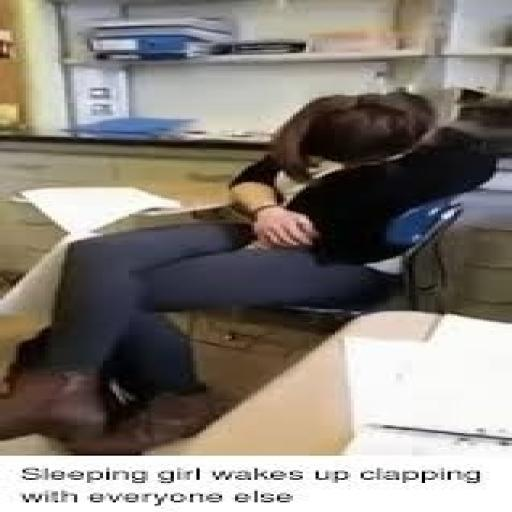sleeping: (0, 87, 499, 452)
